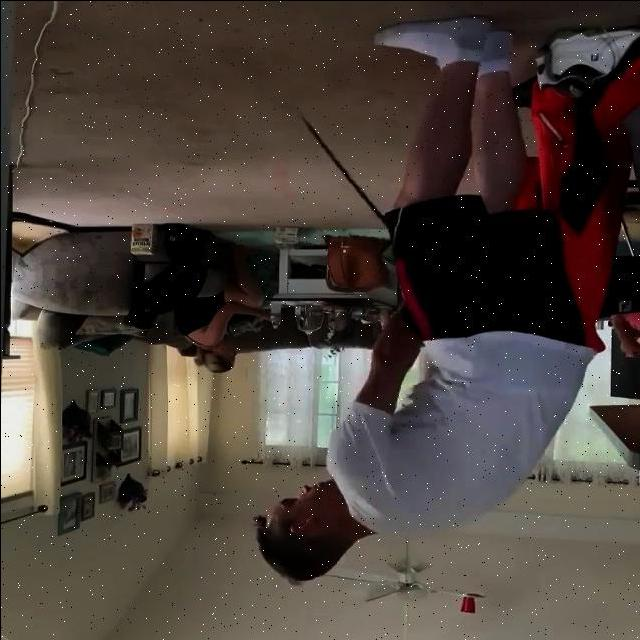golf club-handle: (296, 112, 396, 236)
